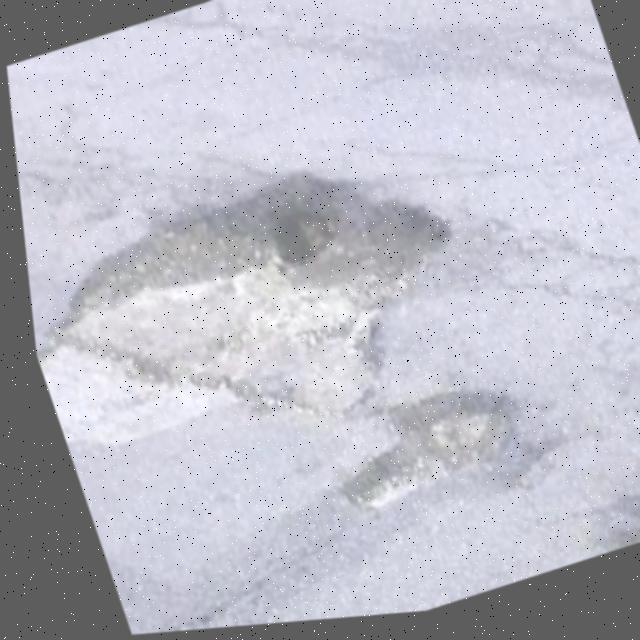pothole: (13, 126, 500, 503), (302, 372, 546, 550), (552, 448, 640, 567)
